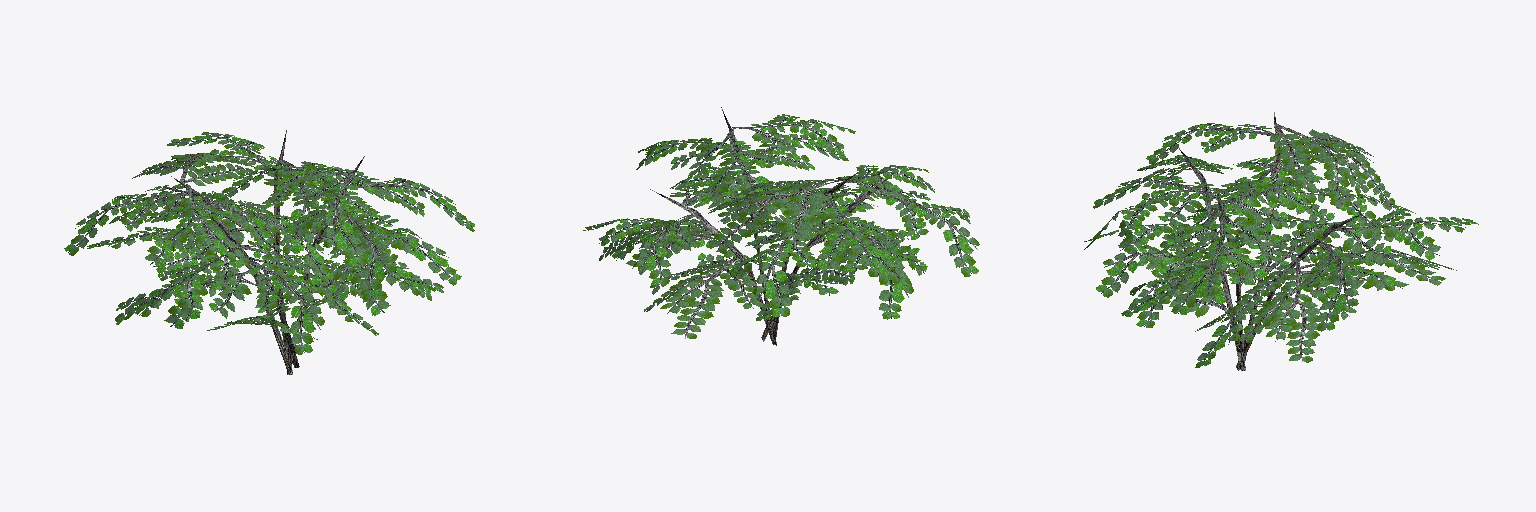
3 renders of one model, left to right at view 1: azimuth 30°, elevation 25°; view 2: azimuth 150°, elevation 25°; view 3: azimuth 270°, elevation 25°, orthographic.
Parts seen in each view (by area): view 1: polySurface126; view 2: polySurface126; view 3: polySurface126.
Boxes of the visible parts, <box> form: polySurface126: <box>64,130,474,374</box>; polySurface126: <box>583,107,979,345</box>; polySurface126: <box>1084,112,1478,370</box>.
Size of the model in its own units: 56.43 by 31.25 by 57.08.
1 materials, 1 textured.